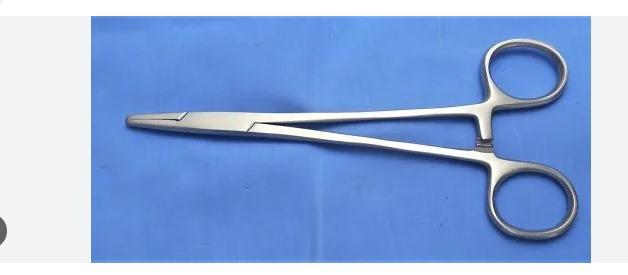Needle Holder: (124, 35, 582, 245)
